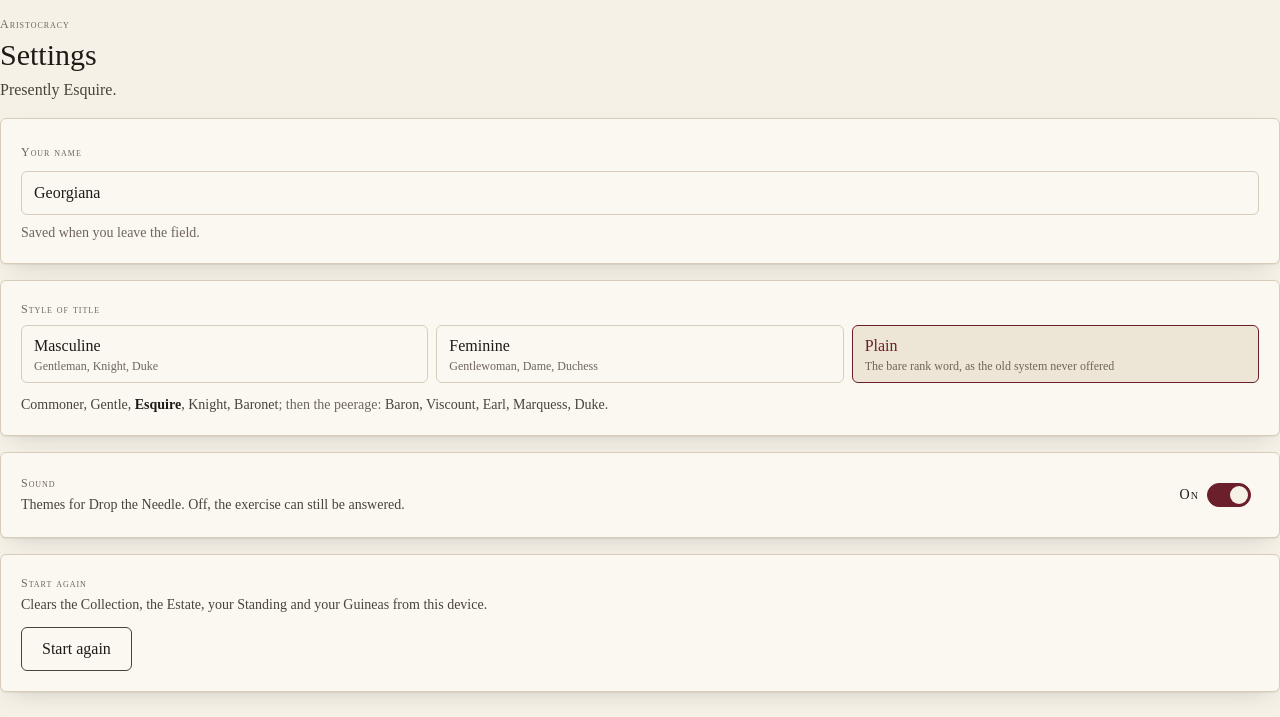
Test: SettingsScreen › keeps the old value and says so when a save fails
Click the radio button with test id "title-style-masculine" at (67, 345), box [21, 324, 428, 382]
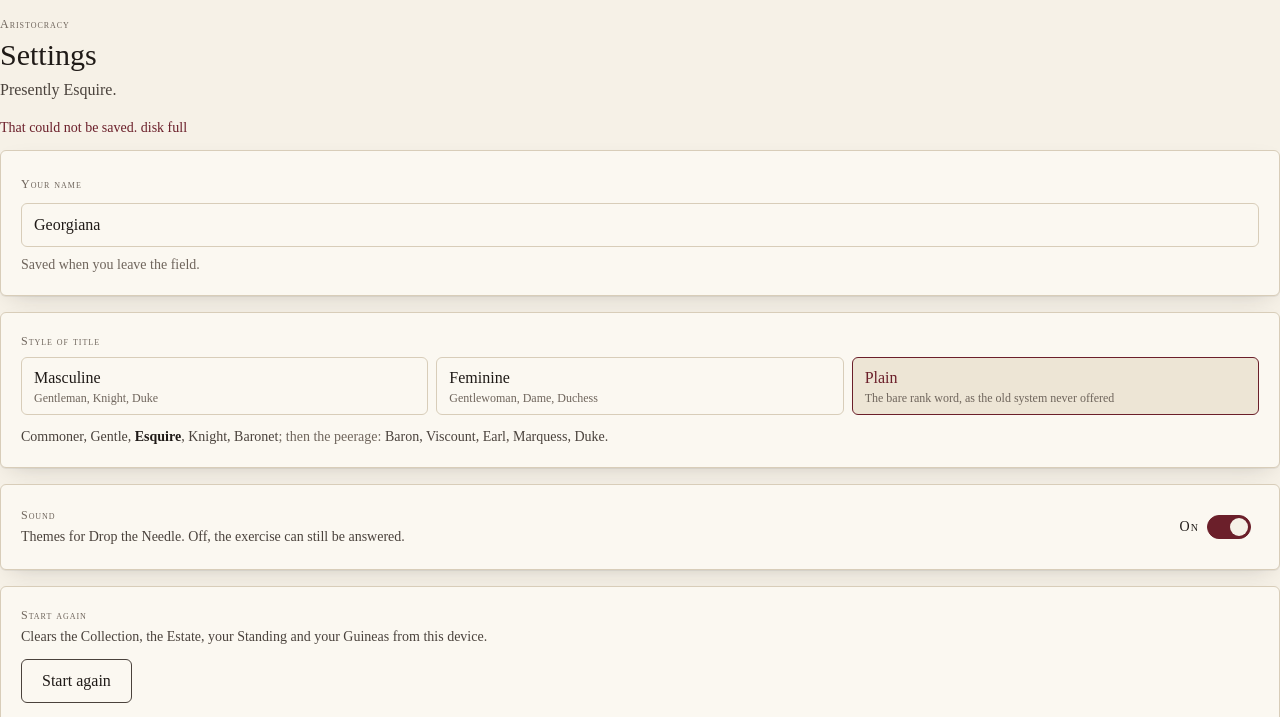
expect the message with test id "settings-notice" shows "could not be saved": met, box [0, 120, 187, 134]
